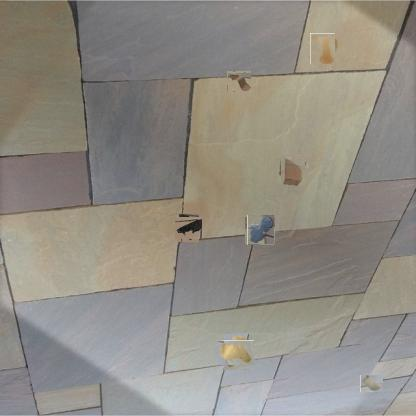dirty: (221, 337, 252, 368), (280, 156, 308, 184), (176, 216, 200, 240), (227, 72, 251, 92), (360, 374, 383, 392)
liquid: (246, 216, 275, 245), (308, 34, 336, 63)
